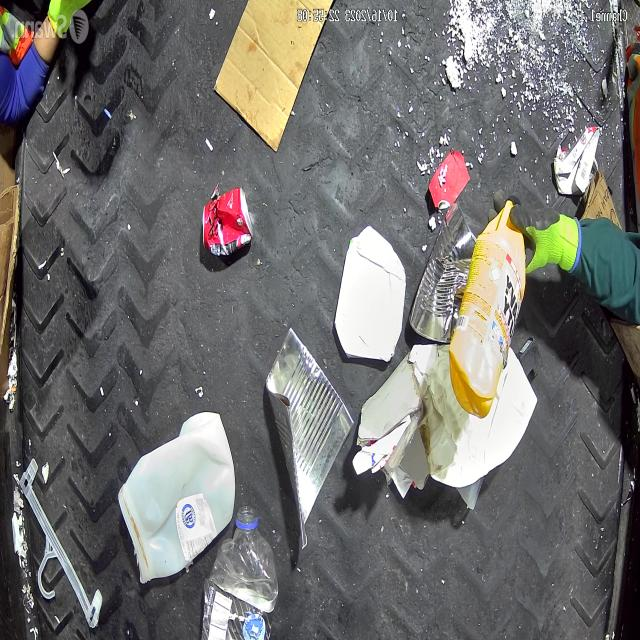can: (263, 325, 356, 549), (408, 200, 476, 343), (202, 185, 253, 256)
milk_jug: (118, 412, 236, 585)
non_white_jug: (449, 198, 526, 419)
plastic_bottle: (202, 506, 278, 640)
